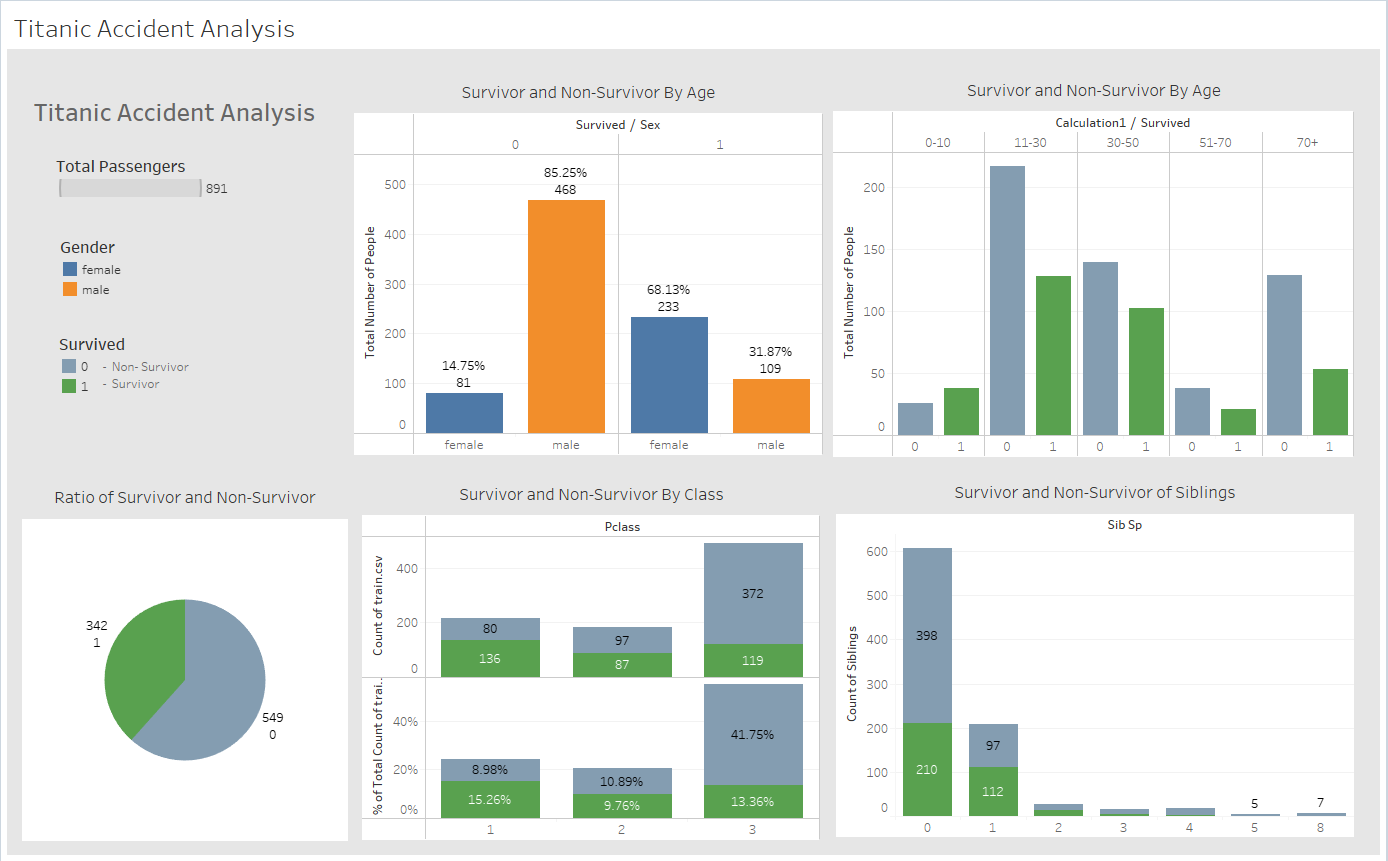

This screenshot's page, from the dashboard's own definition file:
{"tool":"tableau","page":{"name":"Dashboard 1","canvas":[1000,1000],"units":"permille","ordinal":0},"visuals":[{"type":"title","box":[5.2,9.3,989.6,48.6]},{"type":"worksheet","title":"Age Group","mark":"Automatic","rows":["train.csv_E3FC7D515310401C804ED4CCDE05428E"],"cols":["Calculation_5452733274684952576","Survived"],"box":[600.4,86.8,375.8,443.3]},{"type":"worksheet","title":"Sex","mark":"Automatic","rows":["train.csv_E3FC7D515310401C804ED4CCDE05428E"],"cols":["Survived","Sex"],"box":[255.6,89.1,337.7,438.7]},{"type":"text","box":[23,112.3,262.8,34.7]},{"type":"legend","title":"Survive","param":"[federated.0l500px18kssk119if7tk0xxqnn4].[__tableau_internal_object_id__].[cnt:t","box":[41,180.6,155.5,116.9]},{"type":"legend","title":"Sex","param":"[federated.0l500px18kssk119if7tk0xxqnn4].[none:Sex:nk]","box":[43.9,274.3,104.4,76.4]},{"type":"legend","title":"Survive","param":"[federated.0l500px18kssk119if7tk0xxqnn4].[none:Survived:ok]","box":[43.2,386.6,118.8,91.4]},{"type":"text","box":[72.7,415.5,88.5,39.4]},{"type":"worksheet","title":"Siblings","mark":"Automatic","rows":["train.csv_E3FC7D515310401C804ED4CCDE05428E"],"cols":["SibSp"],"box":[602.6,552.1,372.9,417.8]},{"type":"worksheet","title":"PClass","mark":"Automatic","rows":["train.csv_E3FC7D515310401C804ED4CCDE05428E","train.csv_E3FC7D515310401C804ED4CCDE05428E"],"cols":["Pclass"],"box":[261.3,554.4,330.4,419]},{"type":"worksheet","title":"Survive","mark":"Pie","box":[16.6,557.9,234.7,416.7]}]}

Visuals, with their boxes on the dashboard's canvas, which has no fixed pixel size, in thousandths of its width and height (x1, y1, x2, y2). These are canvas units, not pixel positions in the 1388x861 screenshot, which may show the page scaled, cropped or inside an application window:
title: [x1=5, y1=9, x2=995, y2=58]
"Age Group" worksheet: [x1=600, y1=87, x2=976, y2=530]
"Sex" worksheet: [x1=256, y1=89, x2=593, y2=528]
text: [x1=23, y1=112, x2=286, y2=147]
"Survive" legend: [x1=41, y1=181, x2=196, y2=298]
"Sex" legend: [x1=44, y1=274, x2=148, y2=351]
"Survive" legend: [x1=43, y1=387, x2=162, y2=478]
text: [x1=73, y1=416, x2=161, y2=455]
"Siblings" worksheet: [x1=603, y1=552, x2=976, y2=970]
"PClass" worksheet: [x1=261, y1=554, x2=592, y2=973]
"Survive" worksheet (Pie marks): [x1=17, y1=558, x2=251, y2=975]
